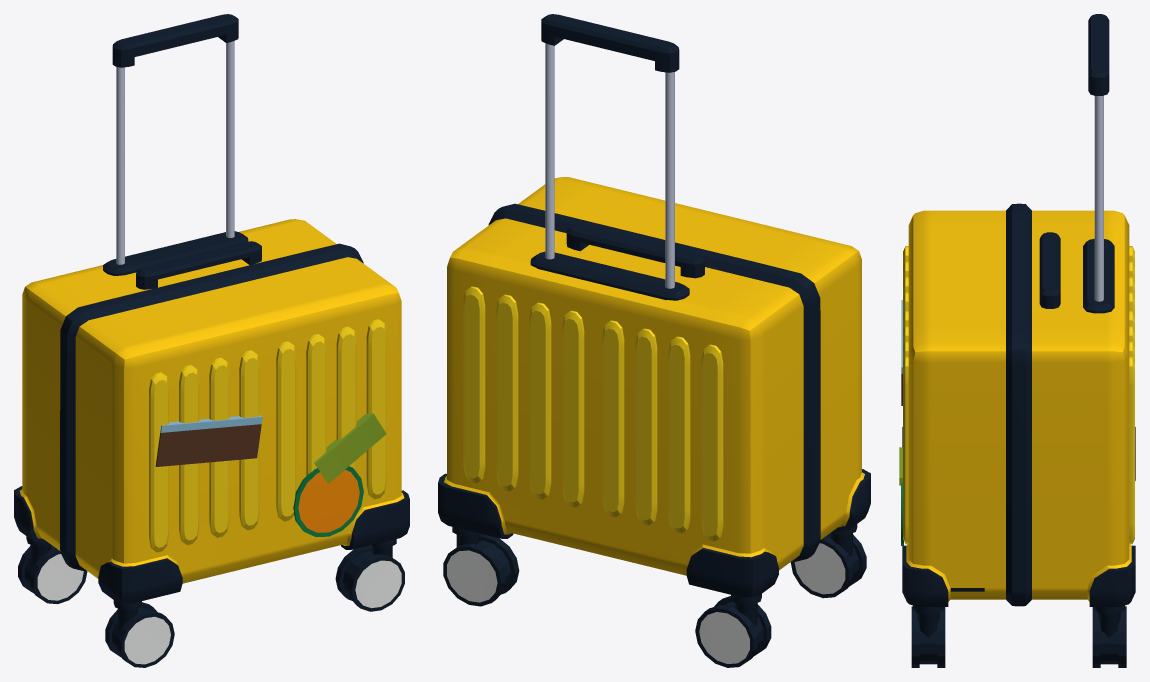
Rendered from Poti_Ani_Move_modeling.fbx.
The picture shows the model from 3 angles, left to right: view 1: azimuth 30°, elevation 25°; view 2: azimuth 150°, elevation 25°; view 3: azimuth 270°, elevation 25°; orthographic projection. The views are drawn at different scales.
Visible parts, largest first — view 1: luggage; view 2: luggage; view 3: luggage.
Boxes of the visible parts, x1=… form: luggage: x1=14, y1=14, x2=409, y2=667; luggage: x1=438, y1=14, x2=870, y2=667; luggage: x1=899, y1=14, x2=1135, y2=667.
Bounding box in the file's own units: 8.53 × 14.88 × 5.65.
1 material, 1 textured.
